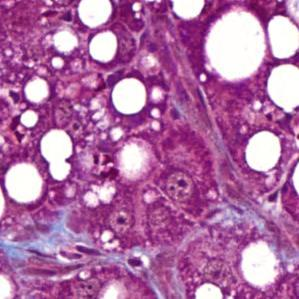steatosis: (207, 11, 266, 81), (239, 242, 281, 287), (5, 162, 46, 207), (267, 61, 299, 112), (245, 132, 282, 174), (266, 11, 299, 58), (114, 79, 148, 116), (75, 0, 117, 26), (89, 31, 120, 62), (23, 76, 51, 103), (53, 25, 78, 54)
